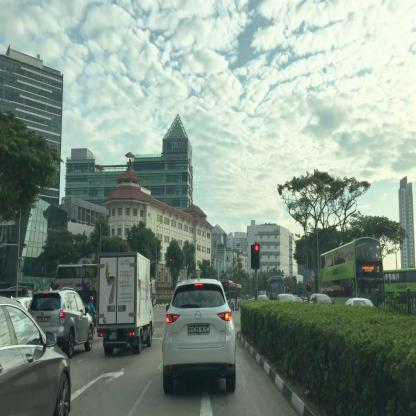red_traffic_light: (254, 243, 258, 267)
